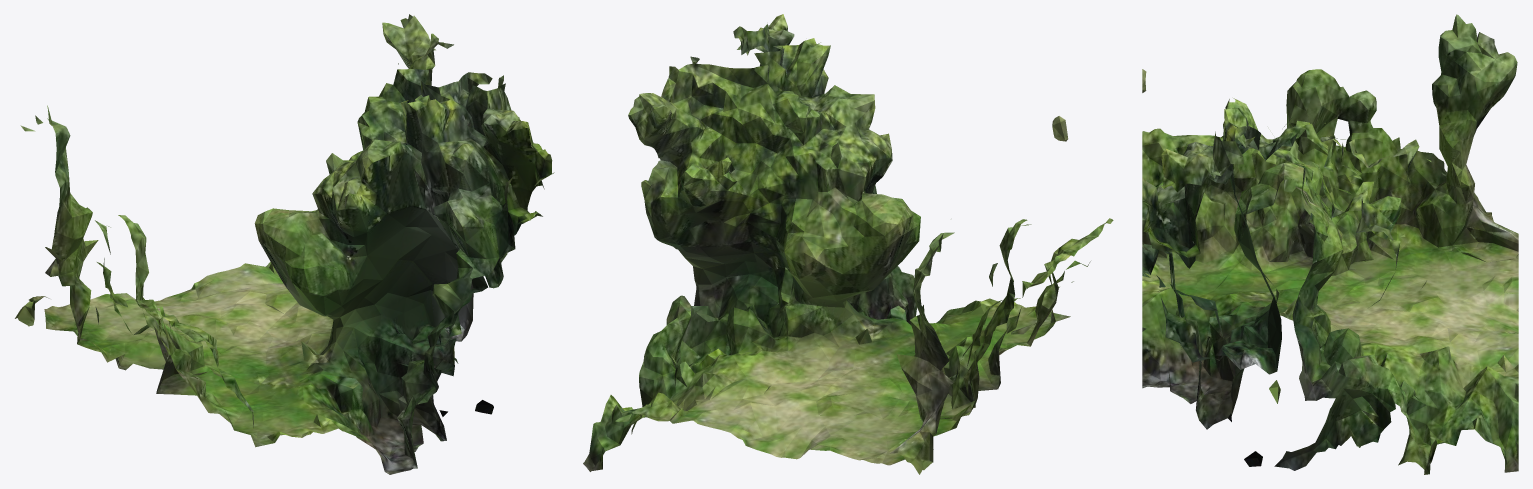
3 renders of one model, left to right at view 1: azimuth 30°, elevation 25°; view 2: azimuth 150°, elevation 25°; view 3: azimuth 270°, elevation 25°, orthographic. The views are drawn at different scales.
Bounding box in the file's own units: 26.11 × 25.33 × 26.11.
6 materials, 6 textured.
